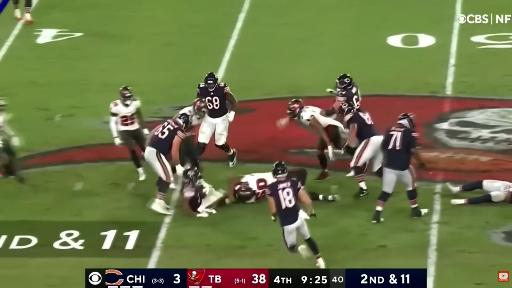Helmet: (234, 182, 255, 201), (183, 165, 200, 184), (287, 99, 304, 117), (193, 99, 207, 119), (336, 74, 353, 90), (119, 86, 133, 105), (398, 113, 414, 129), (204, 72, 218, 90), (272, 162, 287, 178), (176, 114, 191, 129), (341, 102, 356, 115)
Jersey: (267, 179, 301, 226), (382, 127, 416, 170), (149, 120, 185, 155), (197, 83, 230, 118), (296, 106, 344, 130), (344, 111, 376, 143), (241, 173, 275, 203), (110, 99, 140, 130), (335, 84, 361, 113), (182, 182, 202, 211), (178, 106, 203, 126), (0, 113, 8, 147)
Player: (266, 162, 325, 268), (372, 114, 427, 222), (277, 99, 346, 179), (144, 114, 190, 214), (342, 102, 383, 197), (197, 72, 237, 166), (110, 86, 149, 180), (0, 98, 24, 183), (218, 172, 275, 206), (181, 166, 216, 217), (447, 180, 511, 205), (326, 74, 361, 115), (175, 99, 207, 132), (13, 0, 33, 23)
